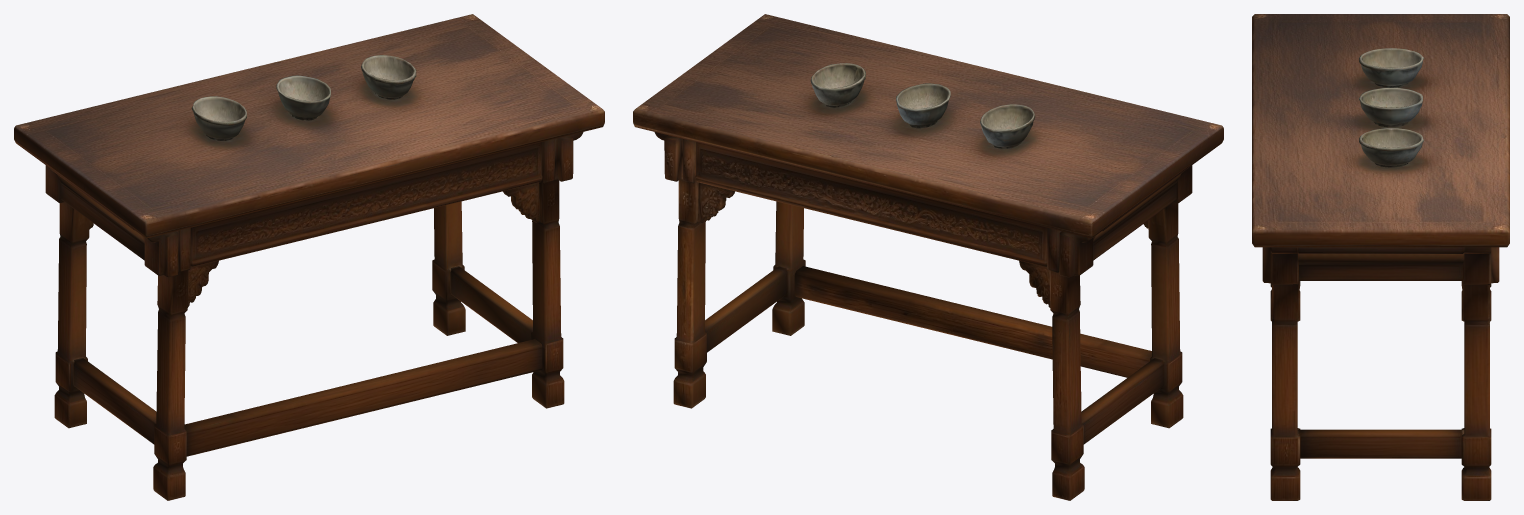
The model's file is furniture-offering-table.glb.
The picture shows the model from 3 angles, left to right: view 1: azimuth 30°, elevation 25°; view 2: azimuth 150°, elevation 25°; view 3: azimuth 270°, elevation 25°; orthographic projection. The views are drawn at different scales.
Visible parts, largest first — view 1: tripo_node_dc81564f-e481-4b2d-9b8f-df8bc2566ae9; view 2: tripo_node_dc81564f-e481-4b2d-9b8f-df8bc2566ae9; view 3: tripo_node_dc81564f-e481-4b2d-9b8f-df8bc2566ae9.
Boxes of the visible parts, left/top/right/bottom form: tripo_node_dc81564f-e481-4b2d-9b8f-df8bc2566ae9: left=14, top=14, right=604, bottom=500; tripo_node_dc81564f-e481-4b2d-9b8f-df8bc2566ae9: left=633, top=14, right=1223, bottom=500; tripo_node_dc81564f-e481-4b2d-9b8f-df8bc2566ae9: left=1252, top=14, right=1509, bottom=500.
Bounding box in the file's own units: 1.3 × 0.86 × 0.65.
Materials: 1 (1 with a texture image).
